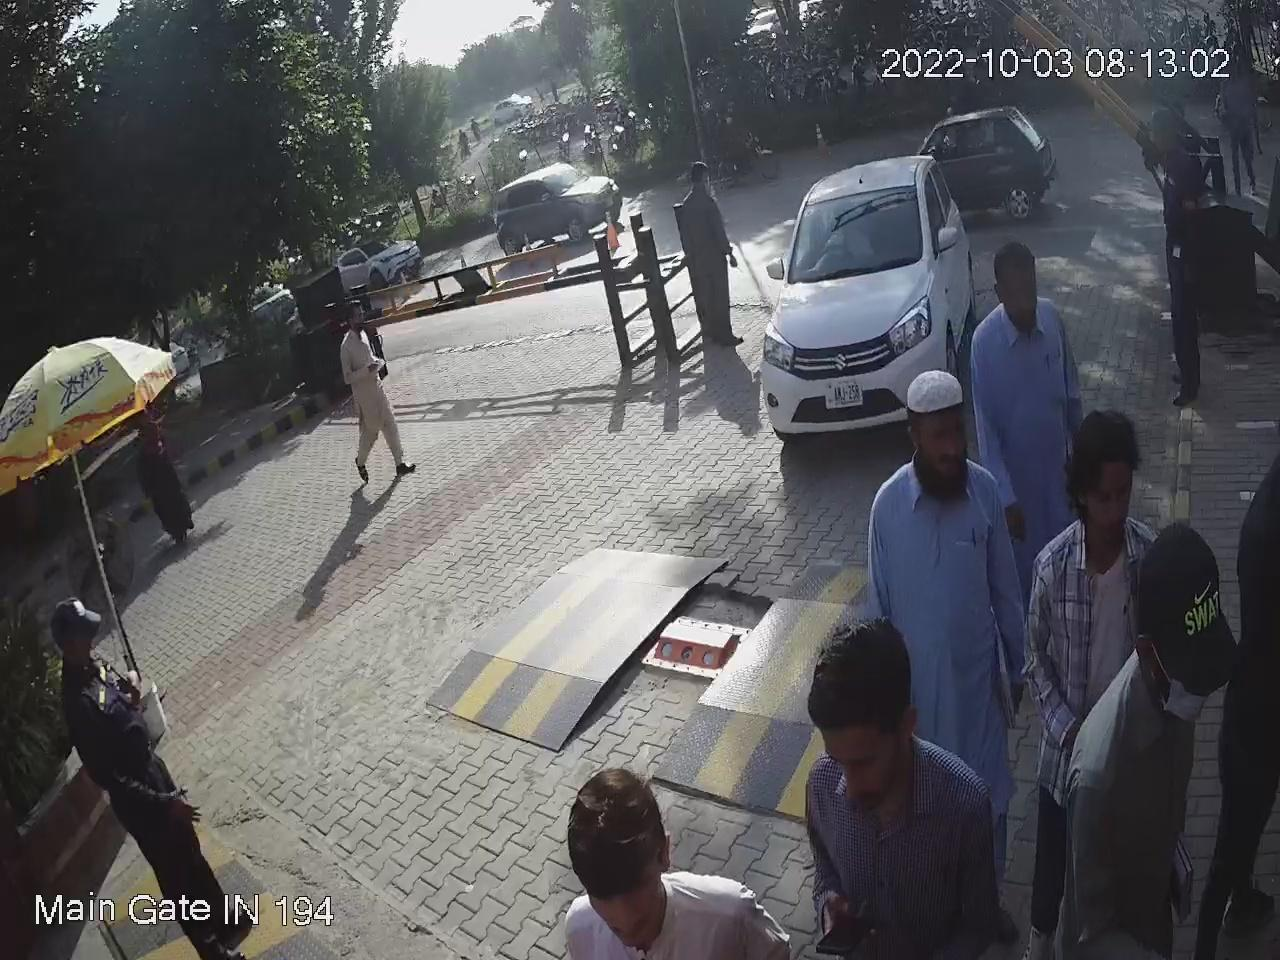windshield: (780, 170, 923, 285)
